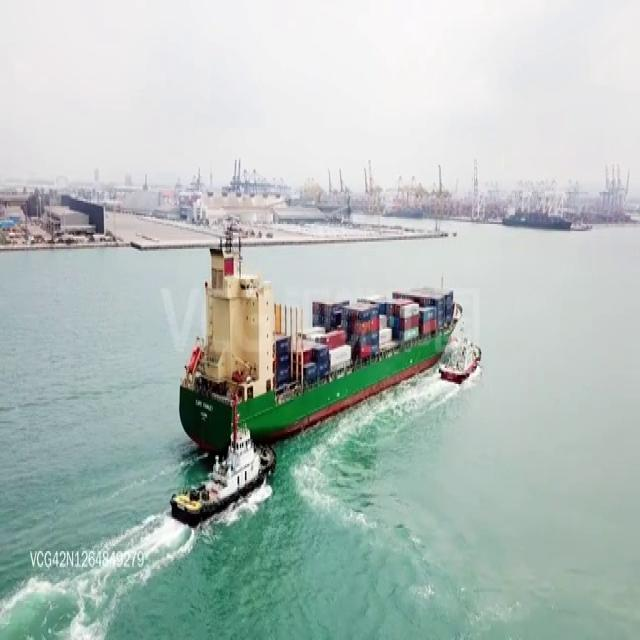cargoship: (172, 230, 459, 433)
houseboat: (170, 425, 273, 529), (438, 332, 483, 383)
